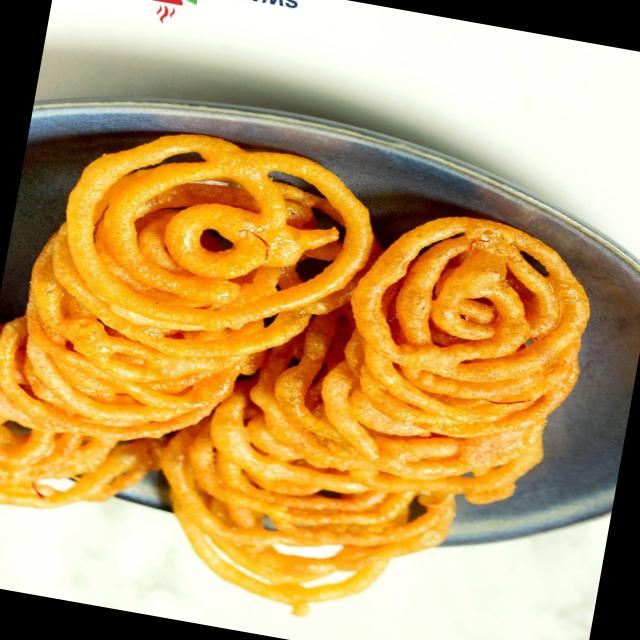jalebi: (0, 113, 580, 640)
